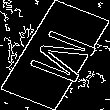M_SE: (13, 24, 97, 86)
